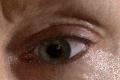eye: (39, 39, 70, 60)
